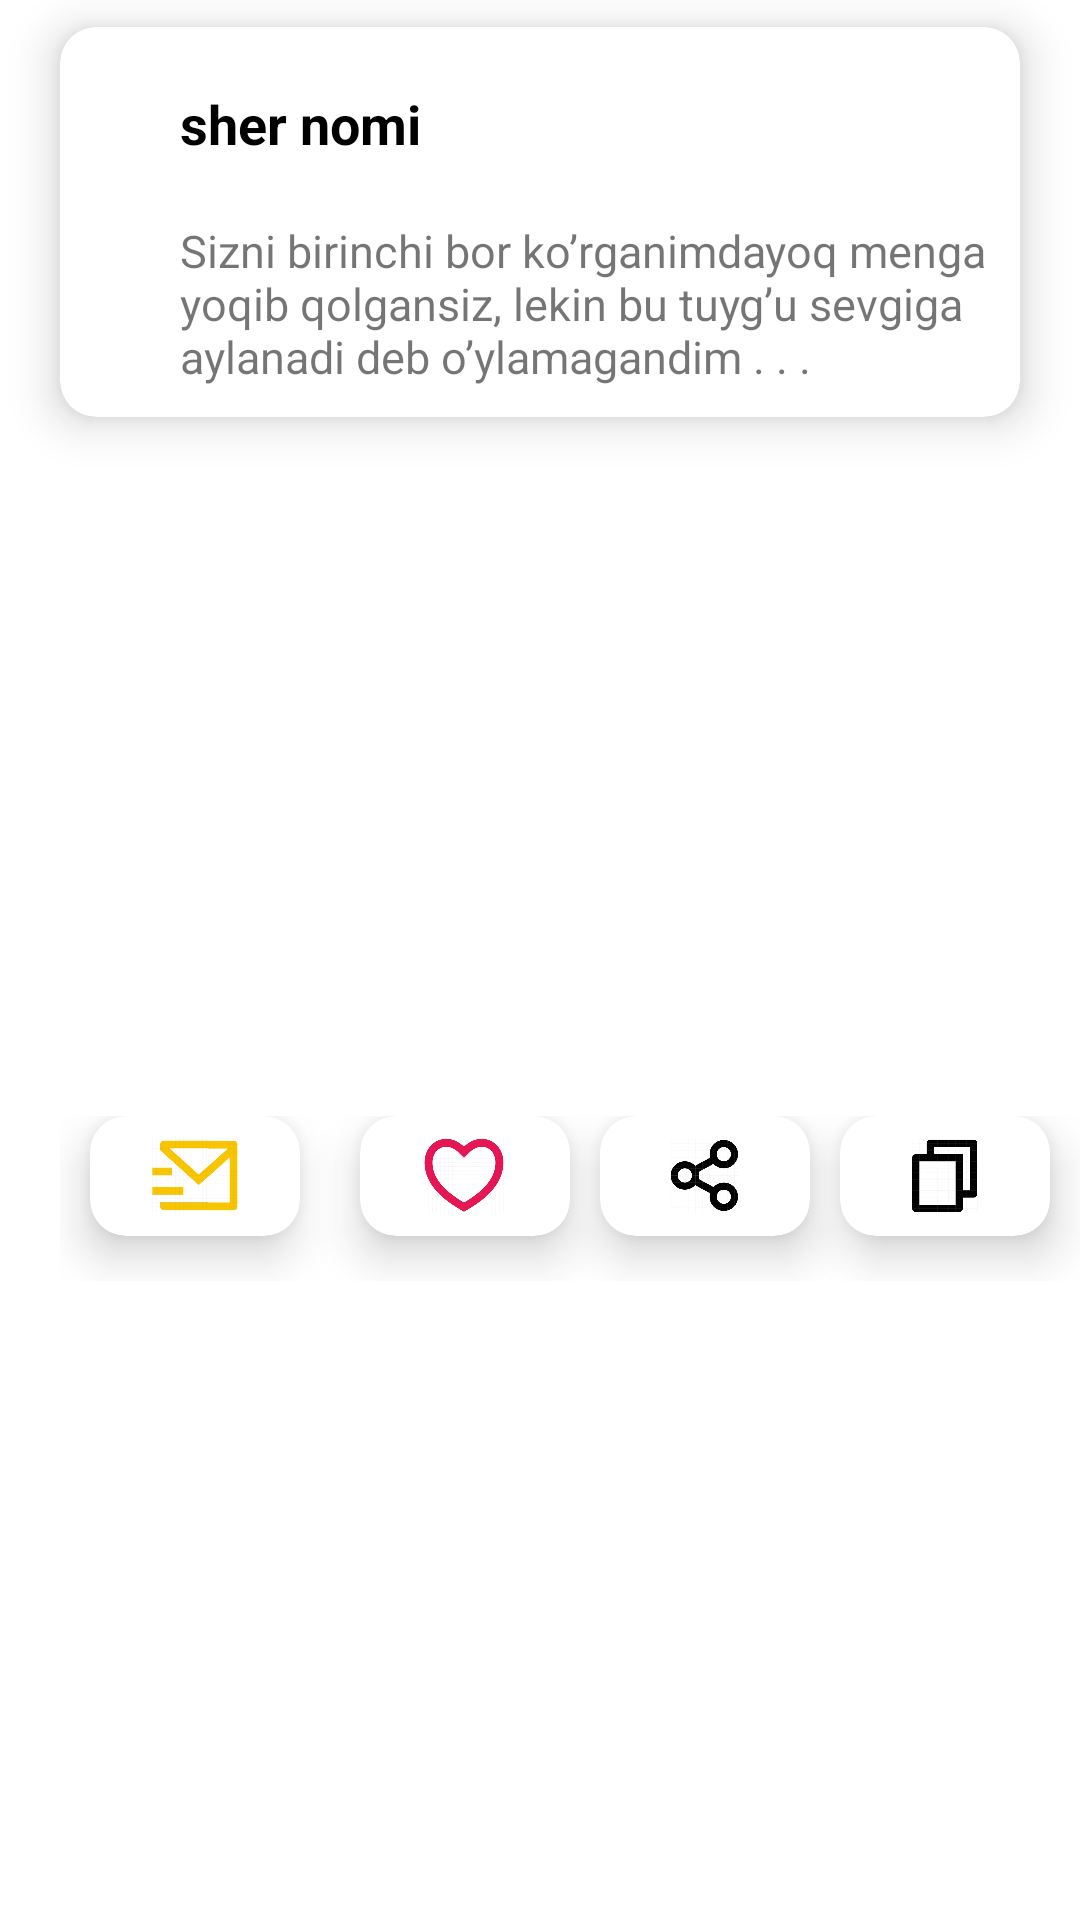

Screen size 1080w x 1920h. Icon name, then its box in pixels as box=[x1, y1, x2, y2]:
copyy: box=[912, 1140, 977, 1212]
heartt: box=[424, 1139, 504, 1212]
messagee: box=[152, 1140, 238, 1211]
sharee: box=[671, 1140, 738, 1211]
